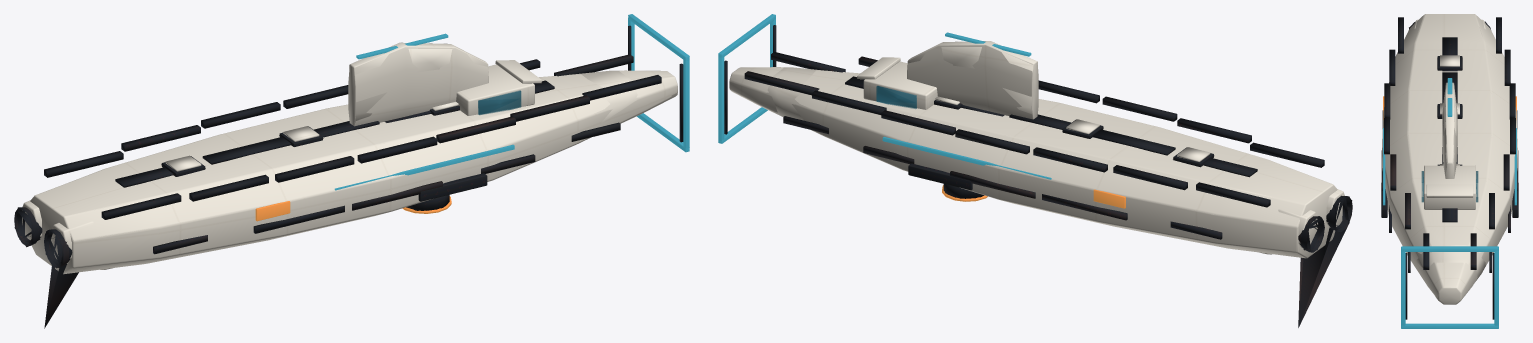
File: inspection_cutter.glb
3 renders of one model, left to right at view 1: azimuth 30°, elevation 25°; view 2: azimuth 150°, elevation 25°; view 3: azimuth 270°, elevation 25°, orthographic. The views are drawn at different scales.
Visible parts, largest first — view 1: LOD0_Merged_Material_Hull, LOD0_Merged_Material_Mechanical, LOD2_Merged_Material_Hull, LOD0_Merged_Material_Cyan, LOD1_Merged_Material_Hull, LOD2_HOOK_DRIVE_FAN, LOD0_HOOK_DRIVE_FAN, LOD0_Merged_Material_Glass, LOD0_Merged_Material_Warm, LOD1_Merged_Material_Glass, LOD1_HOOK_DRIVE_FAN; view 2: LOD0_Merged_Material_Hull, LOD0_Merged_Material_Mechanical, LOD2_Merged_Material_Hull, LOD0_Merged_Material_Cyan, LOD1_Merged_Material_Hull, LOD2_HOOK_DRIVE_FAN, LOD0_HOOK_DRIVE_FAN, LOD0_Merged_Material_Glass, LOD0_Merged_Material_Warm, LOD1_Merged_Material_Glass, LOD1_HOOK_DRIVE_FAN; view 3: LOD0_Merged_Material_Hull, LOD0_Merged_Material_Mechanical, LOD0_Merged_Material_Cyan, LOD2_Merged_Material_Hull, LOD1_Merged_Material_Hull, LOD0_Merged_Material_Glass.
Boxes of the visible parts, left/top/right/bottom form: LOD0_Merged_Material_Hull: left=22, top=42, right=677, bottom=273; LOD0_Merged_Material_Mechanical: left=44, top=25, right=683, bottom=254; LOD2_Merged_Material_Hull: left=22, top=46, right=677, bottom=267; LOD0_Merged_Material_Cyan: left=334, top=14, right=689, bottom=190; LOD1_Merged_Material_Hull: left=29, top=42, right=677, bottom=269; LOD2_HOOK_DRIVE_FAN: left=16, top=210, right=78, bottom=328; LOD0_HOOK_DRIVE_FAN: left=14, top=207, right=72, bottom=268; LOD0_Merged_Material_Glass: left=478, top=90, right=521, bottom=114; LOD0_Merged_Material_Warm: left=255, top=196, right=451, bottom=221; LOD1_Merged_Material_Glass: left=478, top=91, right=520, bottom=114; LOD1_HOOK_DRIVE_FAN: left=14, top=207, right=71, bottom=268; LOD0_Merged_Material_Hull: left=729, top=41, right=1344, bottom=258; LOD0_Merged_Material_Mechanical: left=724, top=25, right=1324, bottom=239; LOD2_Merged_Material_Hull: left=729, top=44, right=1343, bottom=258; LOD0_Merged_Material_Cyan: left=718, top=14, right=1051, bottom=179; LOD1_Merged_Material_Hull: left=729, top=41, right=1343, bottom=256; LOD2_HOOK_DRIVE_FAN: left=1298, top=196, right=1349, bottom=327; LOD0_HOOK_DRIVE_FAN: left=1298, top=195, right=1352, bottom=252; LOD0_Merged_Material_Glass: left=876, top=86, right=916, bottom=108; LOD0_Merged_Material_Warm: left=942, top=185, right=1125, bottom=208; LOD1_Merged_Material_Glass: left=877, top=86, right=916, bottom=108; LOD1_HOOK_DRIVE_FAN: left=1301, top=197, right=1352, bottom=252; LOD0_Merged_Material_Hull: left=1382, top=14, right=1517, bottom=304; LOD0_Merged_Material_Mechanical: left=1381, top=17, right=1518, bottom=319; LOD0_Merged_Material_Cyan: left=1383, top=78, right=1516, bottom=328; LOD2_Merged_Material_Hull: left=1382, top=26, right=1517, bottom=304; LOD1_Merged_Material_Hull: left=1382, top=14, right=1517, bottom=304; LOD0_Merged_Material_Glass: left=1421, top=171, right=1478, bottom=202.
Size of what is drawn, in the model's own units: 22.58 by 7.18 by 4.99.
Materials: 5 (5 with a texture image).
